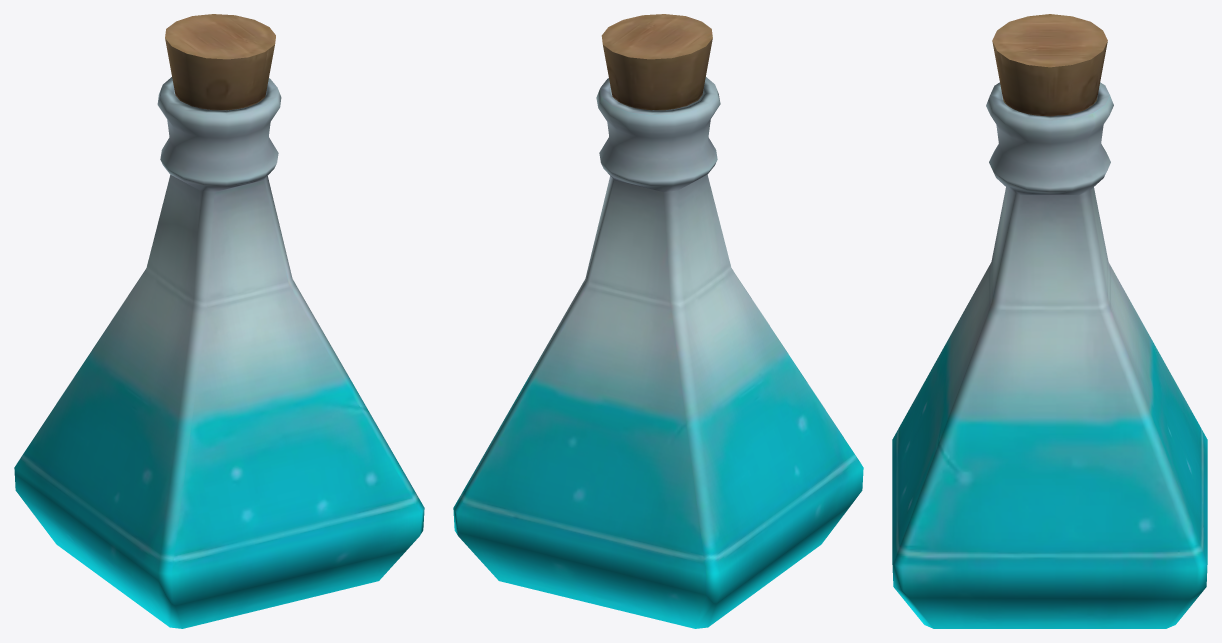
3 renders of one model, left to right at view 1: azimuth 30°, elevation 25°; view 2: azimuth 150°, elevation 25°; view 3: azimuth 270°, elevation 25°, orthographic. The views are drawn at different scales.
Parts seen in each view (by area): view 1: SM_Unfinished_Harralander_Potion_01_LOD0; view 2: SM_Unfinished_Harralander_Potion_01_LOD0; view 3: SM_Unfinished_Harralander_Potion_01_LOD0.
Boxes of the visible parts, x1,y1,x2,y2 form: SM_Unfinished_Harralander_Potion_01_LOD0: (14,14,424,628); SM_Unfinished_Harralander_Potion_01_LOD0: (453,14,863,628); SM_Unfinished_Harralander_Potion_01_LOD0: (892,14,1207,628).
Size of the model in its own units: 0.1248 by 0.2352 by 0.1248.
Materials: 1 (1 with a texture image).
